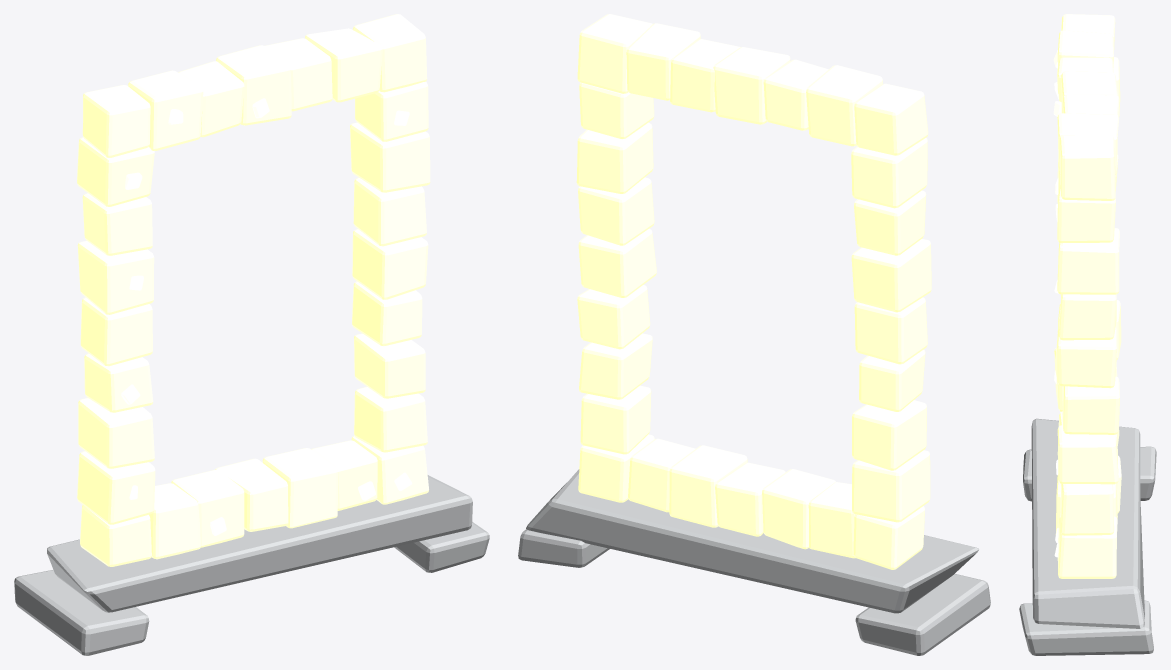
3 views of the same model, side by side, from view 1: azimuth 30°, elevation 25°; view 2: azimuth 150°, elevation 25°; view 3: azimuth 270°, elevation 25° (orthographic). The views are drawn at different scales.
Visible parts, largest first — view 1: Frame; view 2: Frame; view 3: Frame.
Part boxes in pixels (box(x1,y1,x2,y2)): Frame: box(14, 14, 489, 655); Frame: box(518, 14, 990, 655); Frame: box(1019, 14, 1156, 655).
Bounding box in the file's own units: 15.13 × 18.56 × 4.76.
